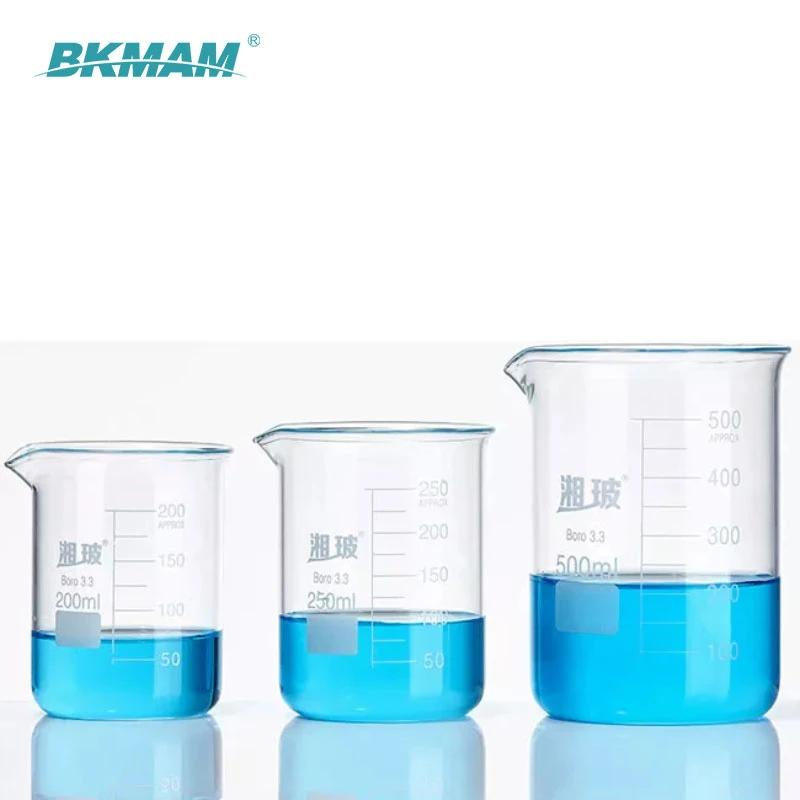Beaker: (500, 344, 790, 726), (248, 407, 496, 725), (16, 431, 229, 722)
